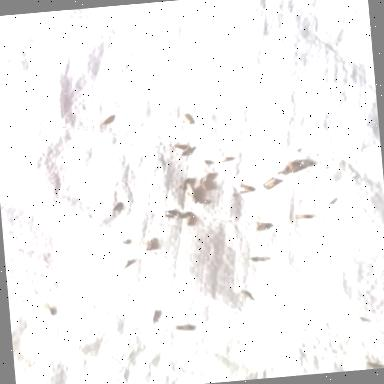pbw: (180, 110, 196, 125), (264, 176, 282, 189), (103, 112, 118, 124), (240, 182, 256, 193), (44, 300, 54, 316), (242, 289, 254, 302), (178, 323, 195, 331), (256, 222, 272, 230), (188, 182, 197, 196), (152, 308, 160, 322), (174, 141, 188, 149), (182, 146, 194, 155), (296, 212, 312, 218), (218, 156, 232, 162), (122, 258, 131, 267), (252, 256, 266, 260)
